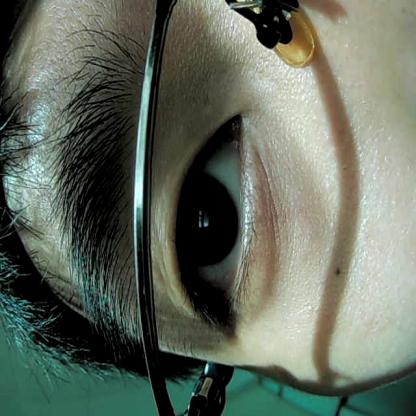Up: (161, 114, 275, 338)
